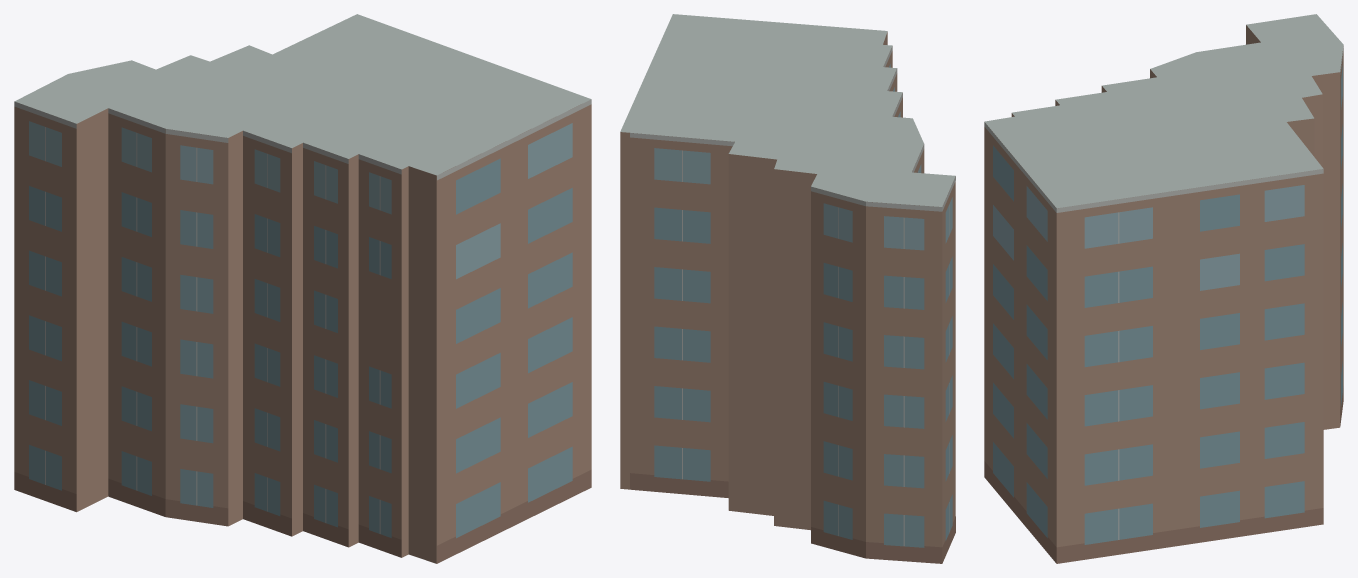
The model's file is survey-upis-32759115.glb.
3 renders of one model, left to right at view 1: azimuth 30°, elevation 25°; view 2: azimuth 150°, elevation 25°; view 3: azimuth 270°, elevation 25°, orthographic. The views are drawn at different scales.
Visible parts, largest first — view 1: survey-upis-32759115.tmp; view 2: survey-upis-32759115.tmp; view 3: survey-upis-32759115.tmp.
Boxes of the visible parts, <box> form: survey-upis-32759115.tmp: <box>14,14,591,563</box>; survey-upis-32759115.tmp: <box>620,14,955,563</box>; survey-upis-32759115.tmp: <box>984,14,1343,563</box>.
Size of the model in its own units: 21.82 by 18.6 by 17.05.
